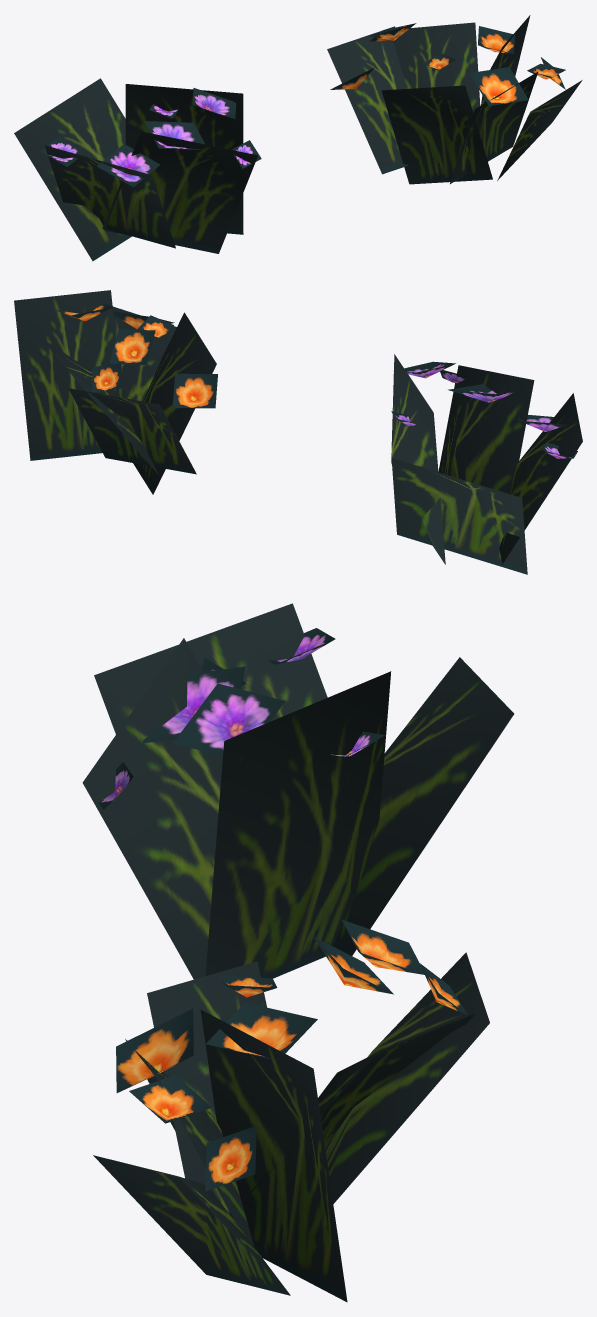
File: ZC_zhiwu02.FBX
The picture shows the model from 3 angles, top to bottom: view 1: azimuth 30°, elevation 25°; view 2: azimuth 150°, elevation 25°; view 3: azimuth 270°, elevation 25°; orthographic projection. The views are drawn at different scales.
Visible parts, largest first — view 1: ZC_zhiwu02_001, ZC_zhiwu02_002; view 2: ZC_zhiwu02_002, ZC_zhiwu02_001; view 3: ZC_zhiwu02_001, ZC_zhiwu02_002.
Part boxes in pixels (x1,y1,x2,y2): ZC_zhiwu02_001: (14, 78, 261, 261); ZC_zhiwu02_002: (327, 15, 582, 184); ZC_zhiwu02_002: (14, 290, 217, 494); ZC_zhiwu02_001: (391, 354, 582, 574); ZC_zhiwu02_001: (82, 603, 514, 979); ZC_zhiwu02_002: (93, 920, 489, 1302).
Bounding box in the file's own units: 4.2 × 1.23 × 1.54.
Materials: 1 (1 with a texture image).
